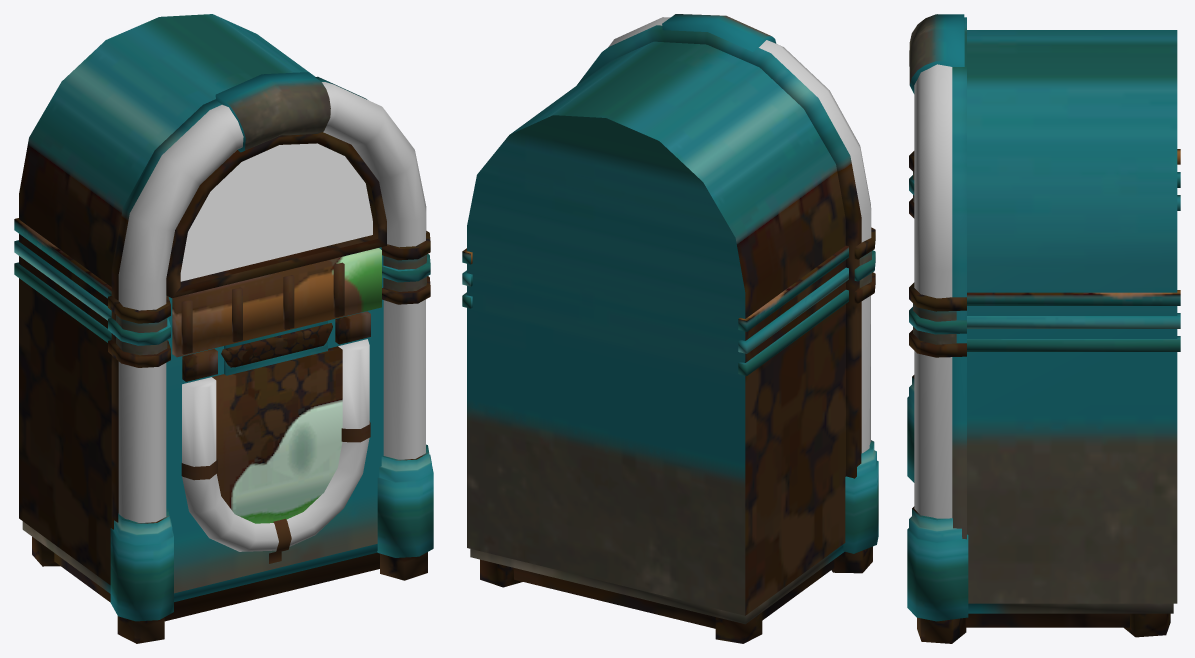
File: jukebox.fbx
3 views of the same model, side by side, from view 1: azimuth 30°, elevation 25°; view 2: azimuth 150°, elevation 25°; view 3: azimuth 270°, elevation 25° (orthographic). The views are drawn at different scales.
Parts seen in each view (by area): view 1: BodyBace_low__mBody, Body_low__mLight, Grass_low__mGlass; view 2: BodyBace_low__mBody, Body_low__mLight; view 3: BodyBace_low__mBody, Body_low__mLight.
Part boxes in pixels (x1,y1,x2,y2): BodyBace_low__mBody: (14,14,433,643); Body_low__mLight: (118,82,426,551); Grass_low__mGlass: (180,143,372,281); BodyBace_low__mBody: (462,14,878,643); Body_low__mLight: (608,17,871,453); BodyBace_low__mBody: (907,14,1180,643); Body_low__mLight: (914,14,952,518).
Bounding box in the file's own units: 268 × 424 × 195.
